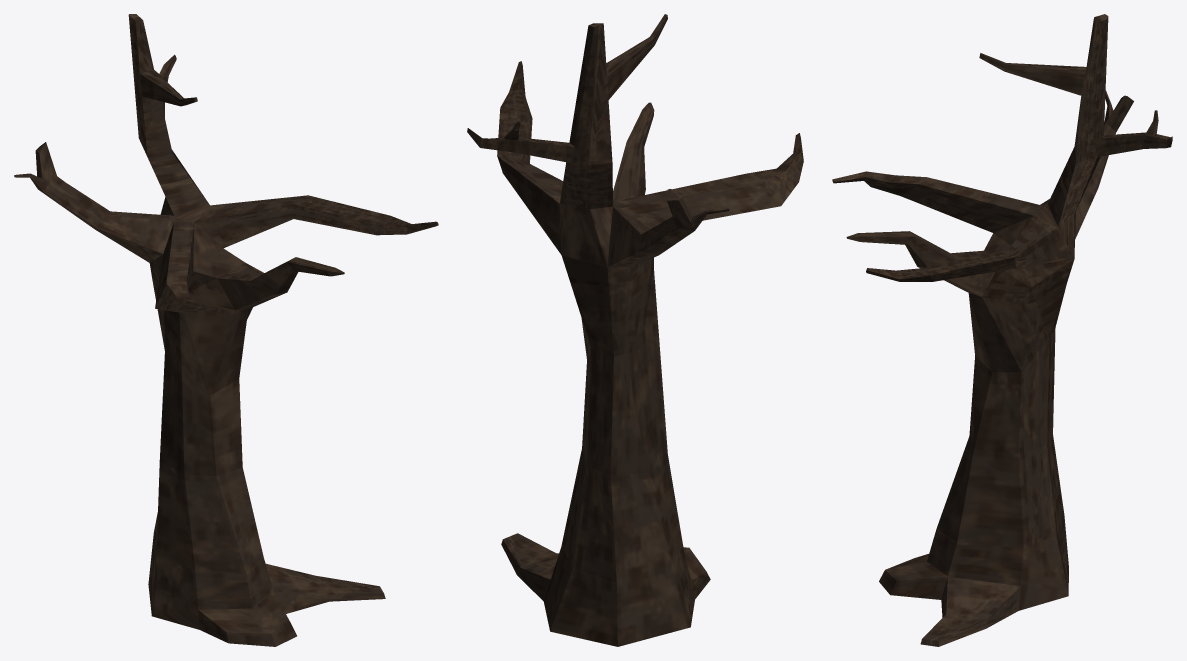
The model's file is TreehouseTreeFBX.fbx.
3 renders of one model, left to right at view 1: azimuth 30°, elevation 25°; view 2: azimuth 150°, elevation 25°; view 3: azimuth 270°, elevation 25°, orthographic. The views are drawn at different scales.
Visible parts, largest first — view 1: TreehouseTree; view 2: TreehouseTree; view 3: TreehouseTree.
Part boxes in pixels (x1,y1,x2,y2): TreehouseTree: (14,14,438,646); TreehouseTree: (467,14,803,646); TreehouseTree: (832,14,1172,646).
Size of the model in its own units: 1988 by 3485 by 1946.
